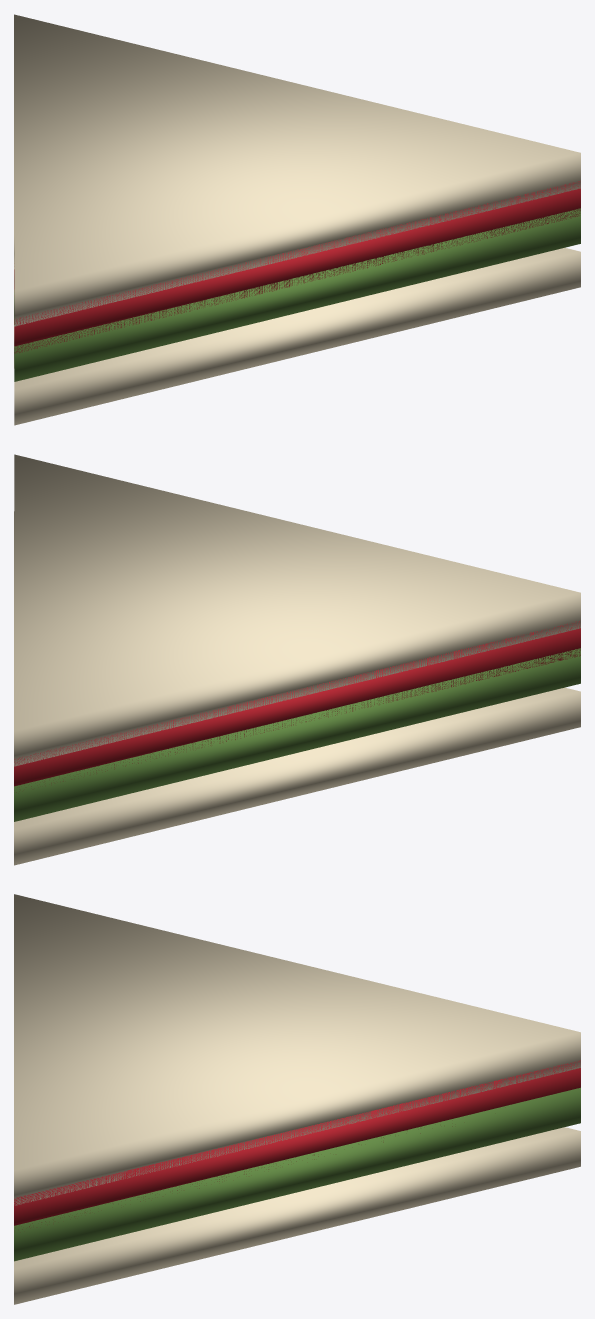
Rendered from sku_v24_sandwich.glb.
3 views of the same model, one above another, from view 1: azimuth 30°, elevation 25°; view 2: azimuth 150°, elevation 25°; view 3: azimuth 270°, elevation 25° (orthographic).
Visible parts, largest first — view 1: sku_v24_sandwich_V24_cream, sku_v24_sandwich_V24_leaf, sku_v24_sandwich_V24_strawberry; view 2: sku_v24_sandwich_V24_cream, sku_v24_sandwich_V24_leaf, sku_v24_sandwich_V24_strawberry; view 3: sku_v24_sandwich_V24_cream, sku_v24_sandwich_V24_leaf, sku_v24_sandwich_V24_strawberry.
Part boxes in pixels (x1=…): sku_v24_sandwich_V24_cream: x1=14, y1=14, x2=580, y2=425; sku_v24_sandwich_V24_leaf: x1=14, y1=208, x2=580, y2=381; sku_v24_sandwich_V24_strawberry: x1=14, y1=181, x2=580, y2=353; sku_v24_sandwich_V24_cream: x1=14, y1=454, x2=580, y2=865; sku_v24_sandwich_V24_leaf: x1=14, y1=648, x2=580, y2=821; sku_v24_sandwich_V24_strawberry: x1=14, y1=621, x2=580, y2=792; sku_v24_sandwich_V24_cream: x1=14, y1=894, x2=580, y2=1304; sku_v24_sandwich_V24_leaf: x1=14, y1=1087, x2=580, y2=1261; sku_v24_sandwich_V24_strawberry: x1=14, y1=1060, x2=580, y2=1229.
Bounding box in the file's own units: 0.15 × 0.034 × 0.13.
